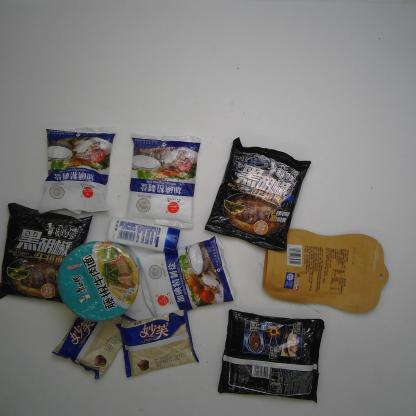Dessert: (50, 306, 139, 380), (115, 307, 200, 379)
Dried Fruit: (261, 227, 389, 313)
Instant Noodles: (203, 136, 312, 253), (217, 309, 325, 404), (0, 203, 94, 304), (55, 240, 144, 324)
Personal Hygiene: (106, 216, 182, 255)
Seasoner: (138, 234, 236, 320), (122, 132, 202, 231), (36, 127, 118, 215)
